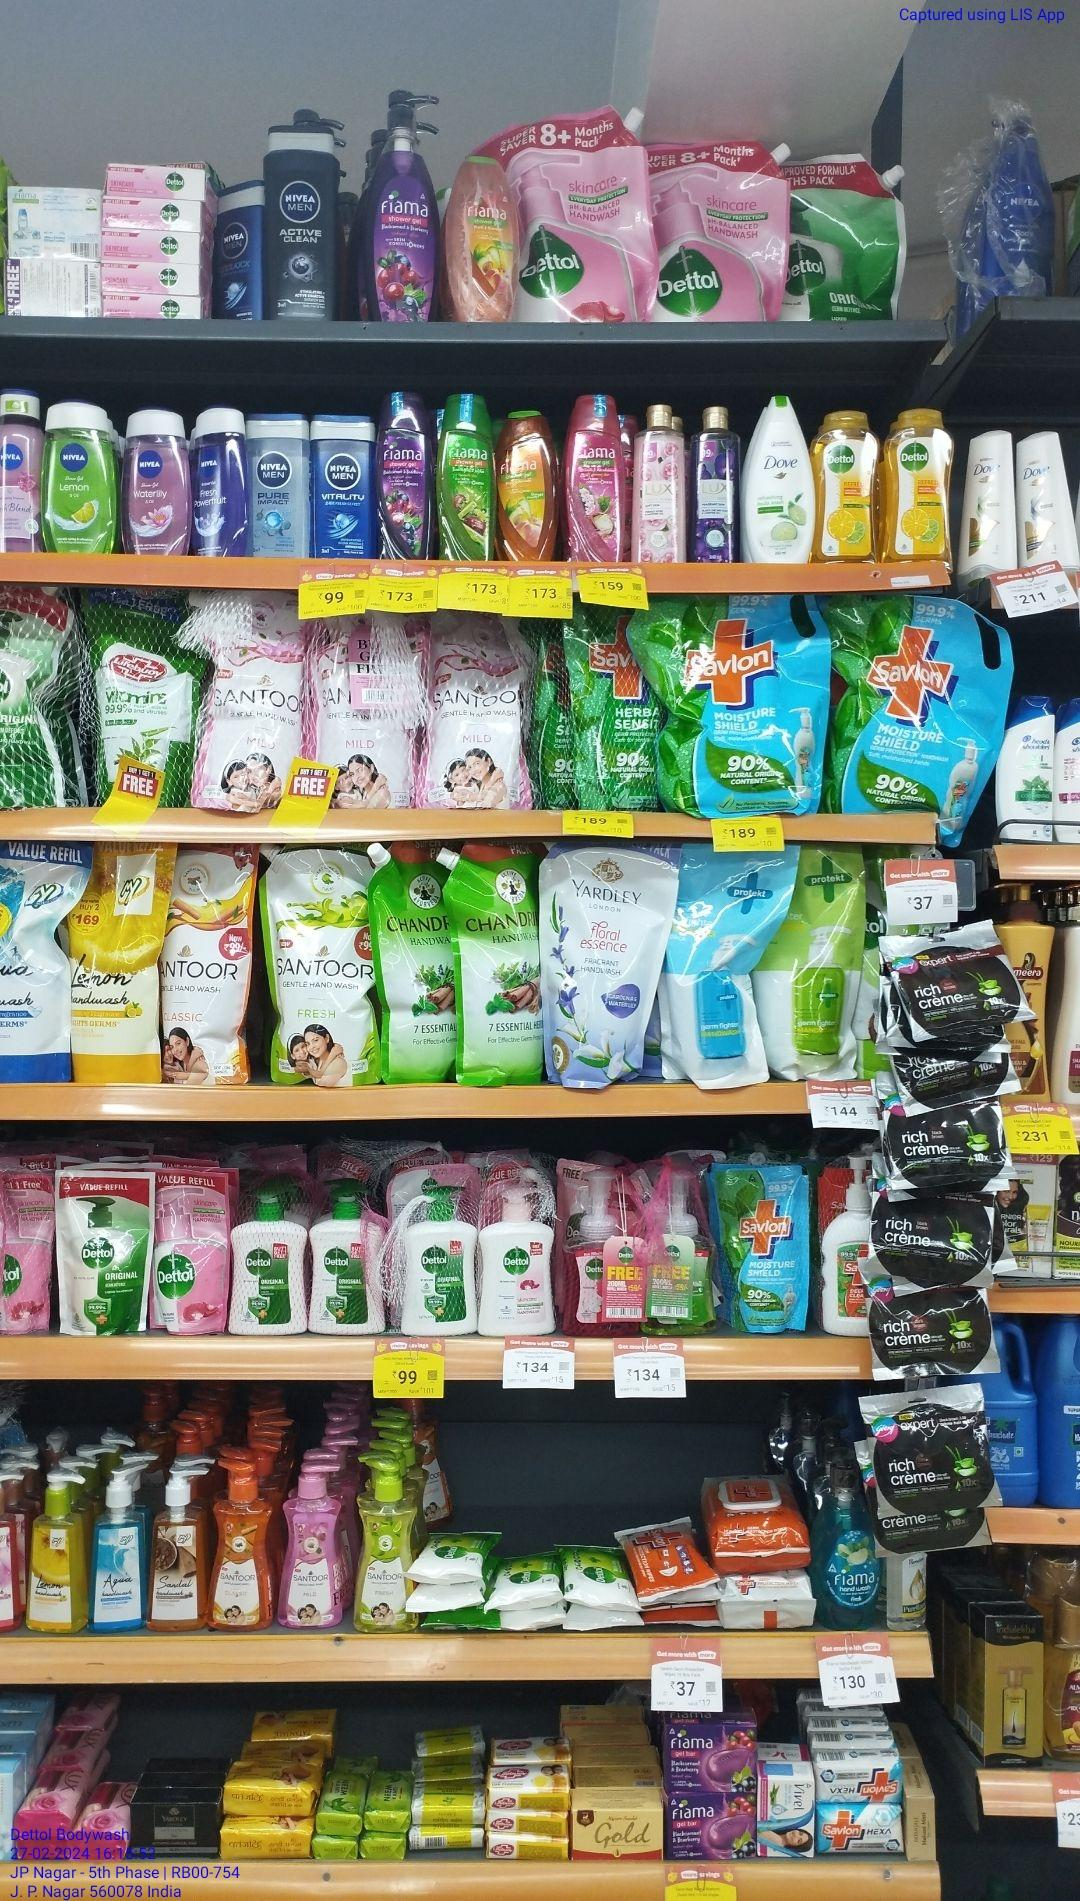Dettol_Bodywash_Refresh: (891, 410, 952, 564), (820, 409, 876, 564)
Dove_Refreshing_Body_Wash_250ML: (746, 394, 816, 568)
Fiama_Shower_Gel_Lemongrass_and_Jojoba_250ML: (439, 393, 495, 561)
Fiama_Shower_Gel_Patchouli_and_Macadamia_250ML: (564, 389, 624, 565)
Fiama_Shower_Gel_Peach_and_Avocado_250ML: (499, 409, 559, 567)
Lux_Black_Orchid_Scent_and_Juniper_Oil_Body_Wash_245ML: (686, 403, 737, 564)
Nivea_Shower_Gel_Fresh_Powerfruit_250ML: (193, 405, 246, 561)
Nivea_Shower_Gel_Lemon_and_Oil_250ML: (38, 398, 115, 556)
Nivea_Shower_Gel_Waterlily_and_Oil_250ML: (121, 405, 192, 558)
